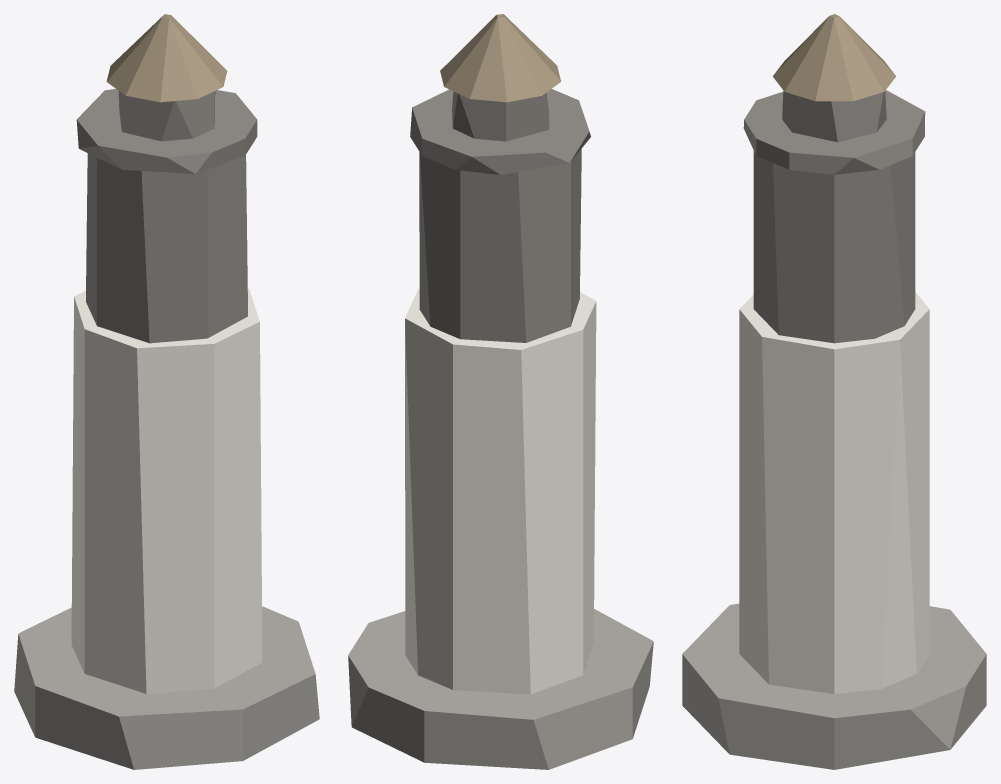
The model's file is 27-Islas-Ubicaciones_faro_viejo.glb.
3 views of the same model, side by side, from view 1: azimuth 30°, elevation 25°; view 2: azimuth 150°, elevation 25°; view 3: azimuth 270°, elevation 25° (orthographic).
Visible parts, largest first — view 1: SM_Faro_M_Faro_Cal, SM_Faro_M_Faro_Roca, SM_Faro_M_Faro_Cal_Osc, SM_Faro_M_Faro_Metal, SM_Faro_M_Faro_Techo, SM_Faro_M_Faro_Lampara; view 2: SM_Faro_M_Faro_Cal, SM_Faro_M_Faro_Roca, SM_Faro_M_Faro_Cal_Osc, SM_Faro_M_Faro_Metal, SM_Faro_M_Faro_Techo, SM_Faro_M_Faro_Lampara; view 3: SM_Faro_M_Faro_Cal, SM_Faro_M_Faro_Roca, SM_Faro_M_Faro_Cal_Osc, SM_Faro_M_Faro_Metal, SM_Faro_M_Faro_Techo, SM_Faro_M_Faro_Lampara.
Part boxes in pixels (x1,y1,x2,y2): SM_Faro_M_Faro_Cal: (71, 288, 262, 693); SM_Faro_M_Faro_Roca: (14, 606, 319, 769); SM_Faro_M_Faro_Cal_Osc: (86, 153, 247, 343); SM_Faro_M_Faro_Metal: (76, 89, 257, 173); SM_Faro_M_Faro_Techo: (106, 14, 227, 102); SM_Faro_M_Faro_Lampara: (118, 91, 215, 141); SM_Faro_M_Faro_Cal: (405, 289, 596, 694); SM_Faro_M_Faro_Roca: (348, 609, 653, 769); SM_Faro_M_Faro_Cal_Osc: (419, 149, 581, 342); SM_Faro_M_Faro_Metal: (410, 89, 590, 174); SM_Faro_M_Faro_Techo: (440, 14, 561, 102); SM_Faro_M_Faro_Lampara: (452, 91, 549, 141); SM_Faro_M_Faro_Cal: (739, 292, 929, 693); SM_Faro_M_Faro_Roca: (682, 603, 986, 769); SM_Faro_M_Faro_Cal_Osc: (753, 151, 915, 343); SM_Faro_M_Faro_Metal: (743, 90, 925, 174); SM_Faro_M_Faro_Techo: (773, 14, 895, 101); SM_Faro_M_Faro_Lampara: (782, 91, 886, 142).
Bounding box in the file's own units: 3.2 × 8 × 3.2.
